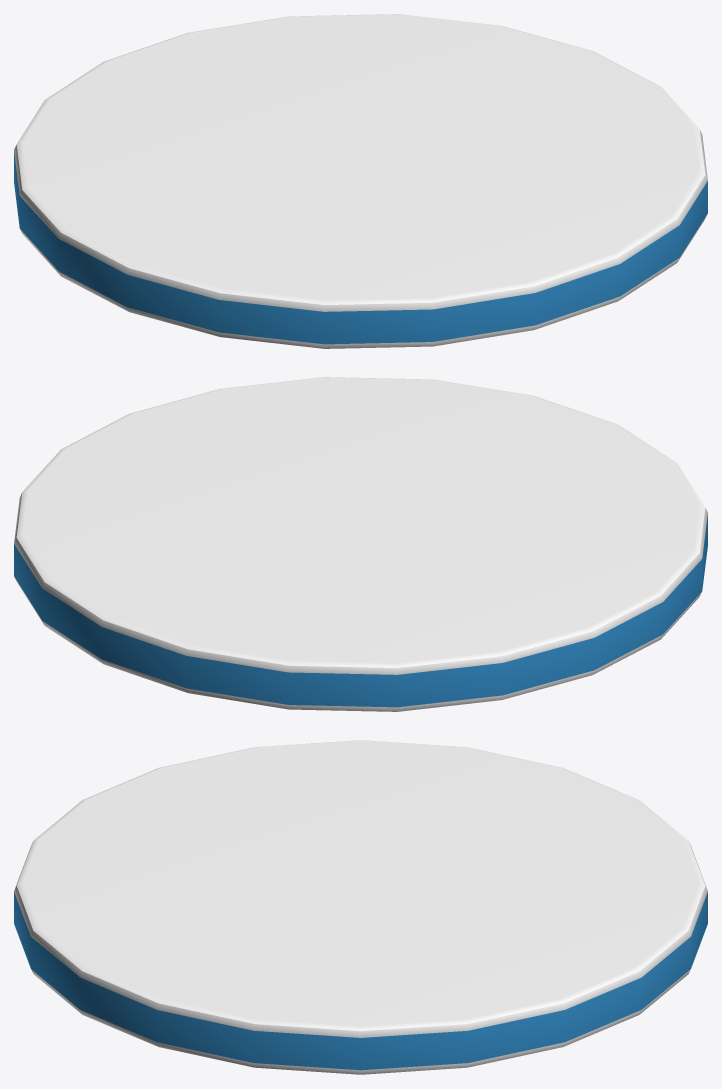
File: CastleBlocks_03.fbx
The picture shows the model from 3 angles, top to bottom: view 1: azimuth 30°, elevation 25°; view 2: azimuth 150°, elevation 25°; view 3: azimuth 270°, elevation 25°; orthographic projection.
Visible parts, largest first — view 1: Block_cr_wood; view 2: Block_cr_wood; view 3: Block_cr_wood.
Part boxes in pixels (left/top/right/bottom): Block_cr_wood: left=14, top=14, right=707, bottom=348; Block_cr_wood: left=14, top=377, right=707, bottom=711; Block_cr_wood: left=14, top=740, right=707, bottom=1074.
Size of the model in its own units: 1.83 by 0.1401 by 1.83.
